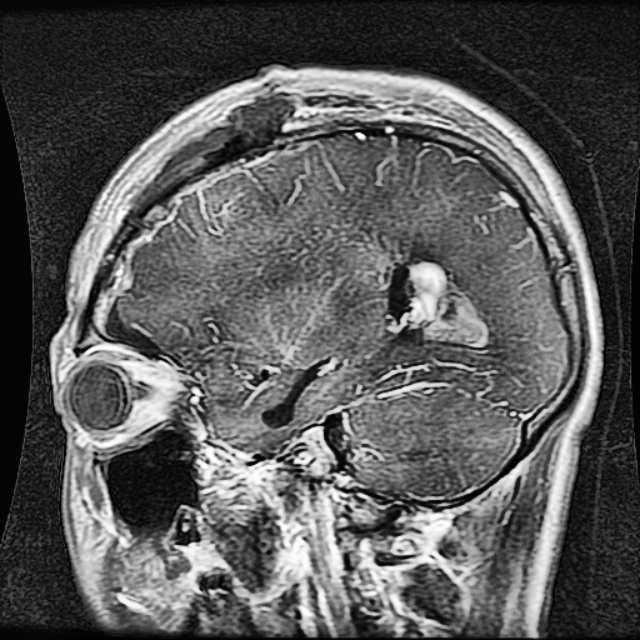Meningioma: (390, 258, 490, 349)
